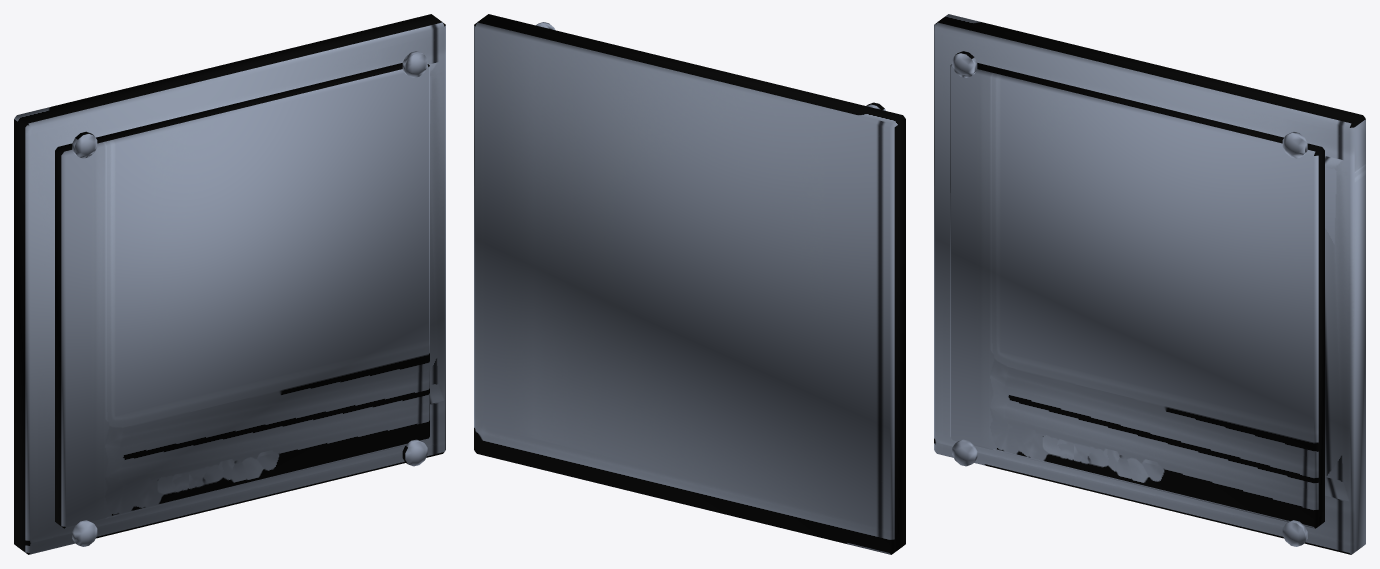
File: Estela_MusloIzq_Acero.fbx
The picture shows the model from 3 angles, left to right: view 1: azimuth 30°, elevation 25°; view 2: azimuth 150°, elevation 25°; view 3: azimuth 330°, elevation 25°; orthographic projection.
Visible parts, largest first — view 1: Estela_MusloIzq_Acero; view 2: Estela_MusloIzq_Acero; view 3: Estela_MusloIzq_Acero.
Boxes of the visible parts, <box> form: Estela_MusloIzq_Acero: <box>14,14,445,554</box>; Estela_MusloIzq_Acero: <box>474,14,905,554</box>; Estela_MusloIzq_Acero: <box>934,14,1365,554</box>.
Size of the model in its own units: 0.695 by 0.6815 by 0.0898.
